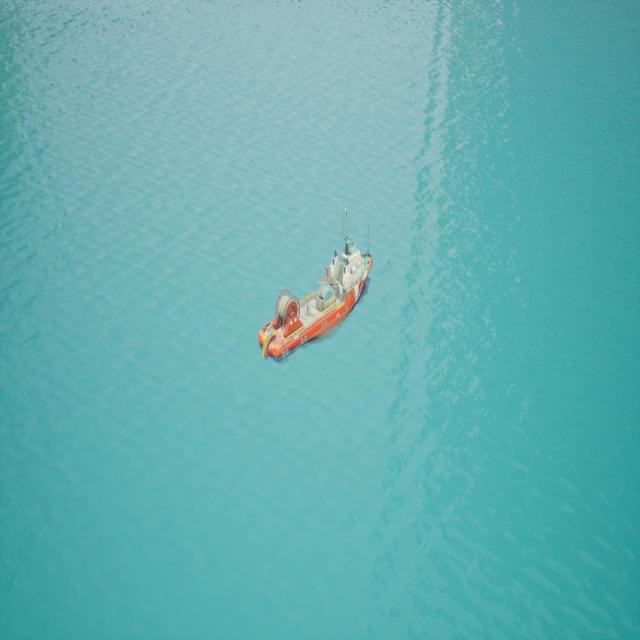tug boat: (244, 210, 383, 407)
